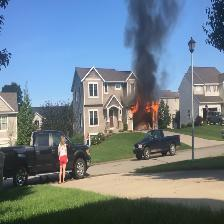smoke: (121, 0, 188, 106)
